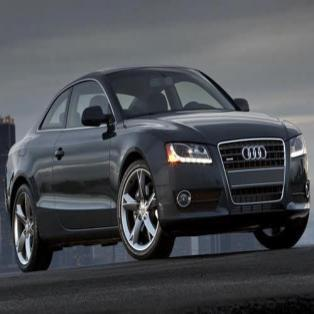Auto: (4, 60, 314, 271)
